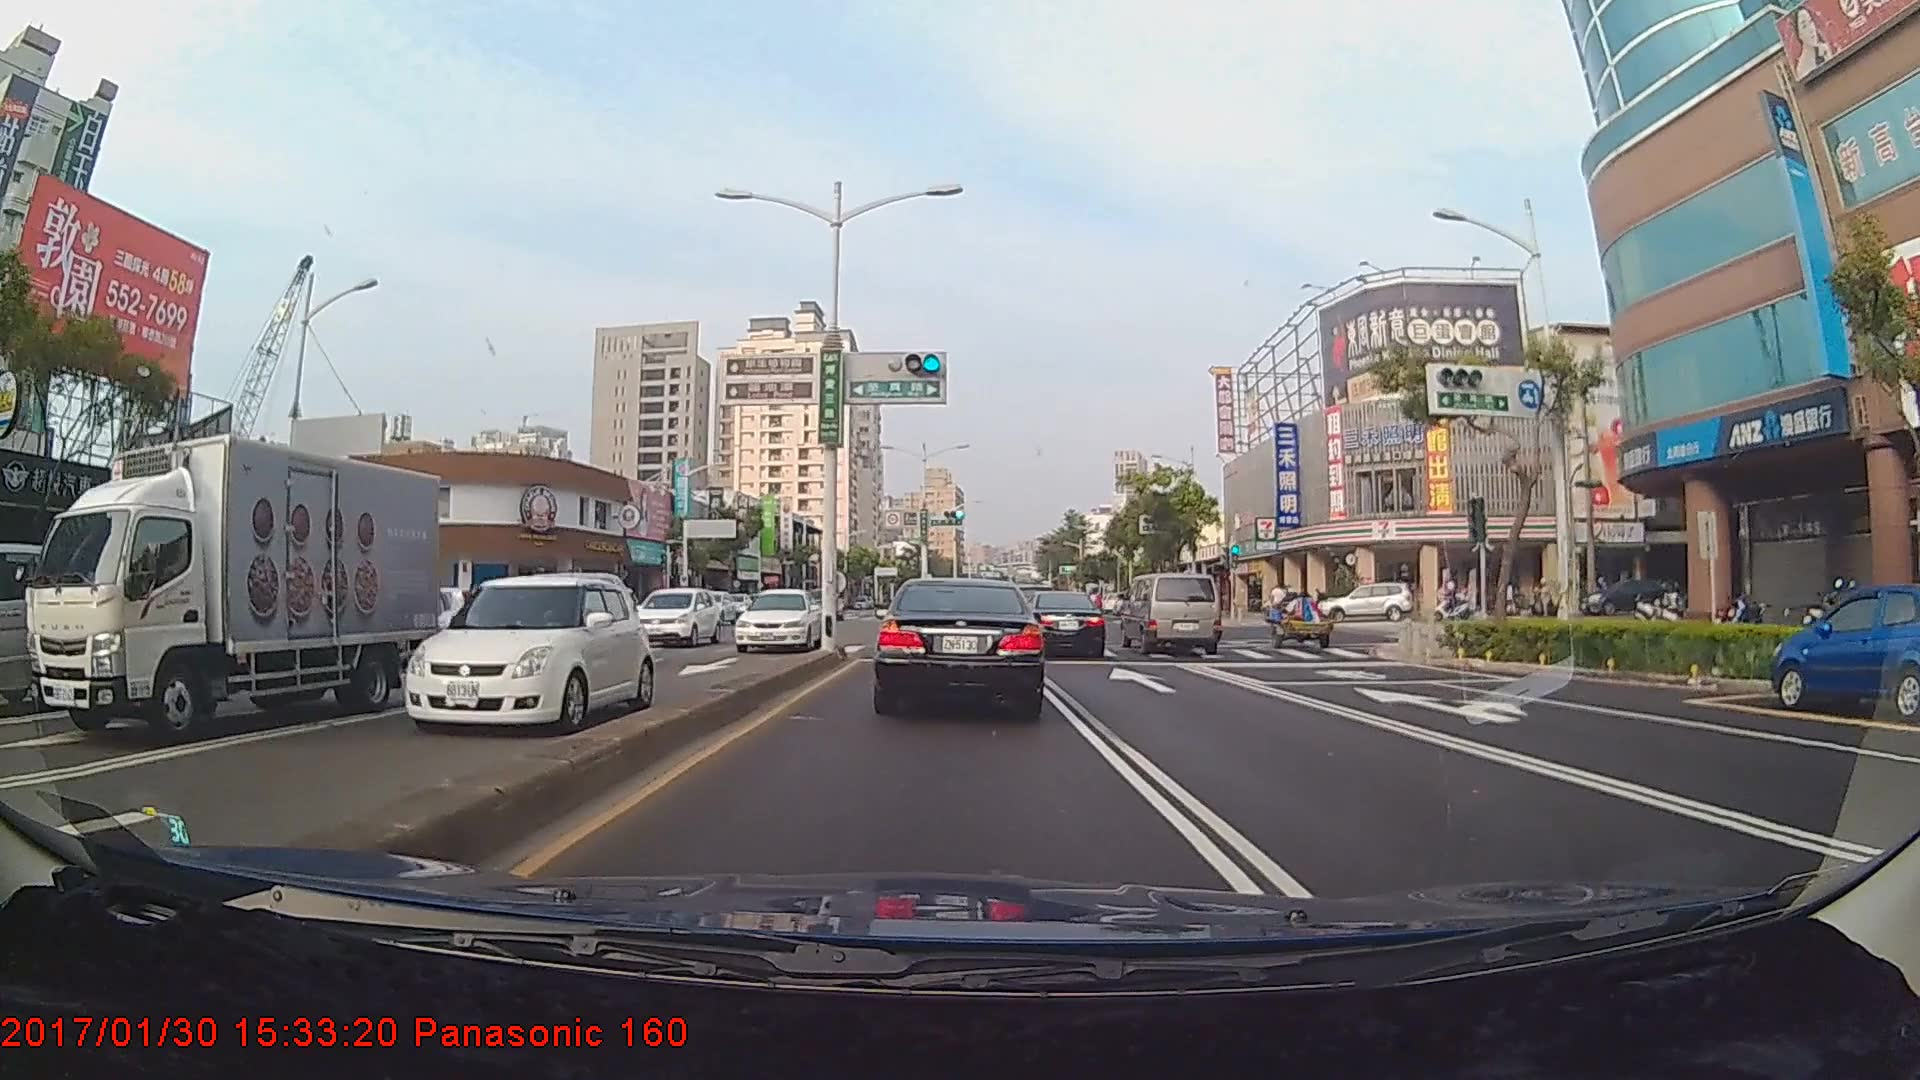vehicle: (45, 425, 435, 744), (401, 571, 655, 735), (877, 572, 1044, 715), (1774, 582, 1917, 715), (473, 566, 632, 670), (3, 541, 88, 702), (1122, 571, 1224, 658), (720, 583, 818, 653), (628, 583, 721, 647), (1023, 592, 1106, 658), (1323, 582, 1416, 622)
